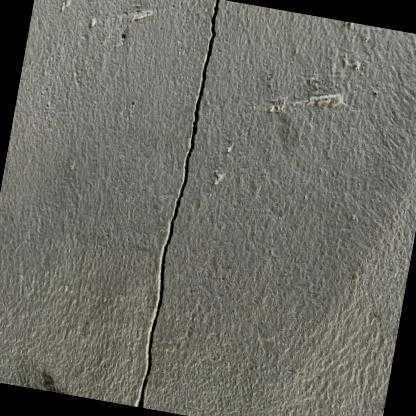crack: (133, 0, 221, 406)
